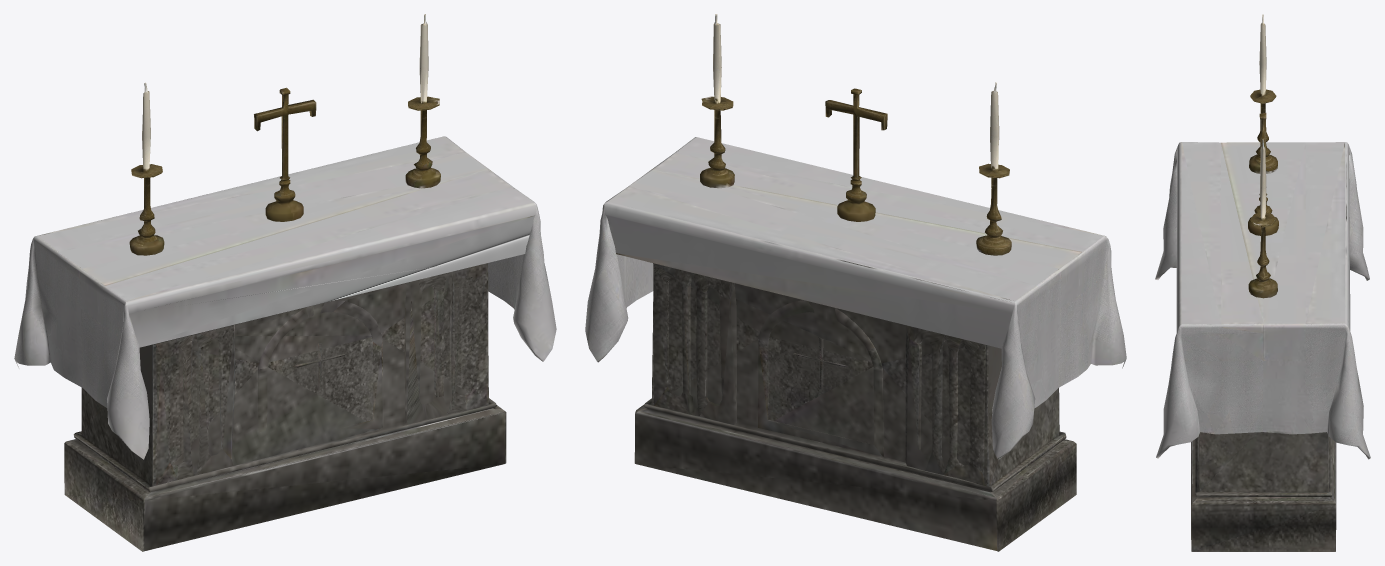
File: chapel_altar.glb
3 views of the same model, side by side, from view 1: azimuth 30°, elevation 25°; view 2: azimuth 150°, elevation 25°; view 3: azimuth 270°, elevation 25° (orthographic). The views are drawn at different scales.
Size of the model in its own units: 1.72 by 1.61 by 0.8.
1 material, 1 textured.
